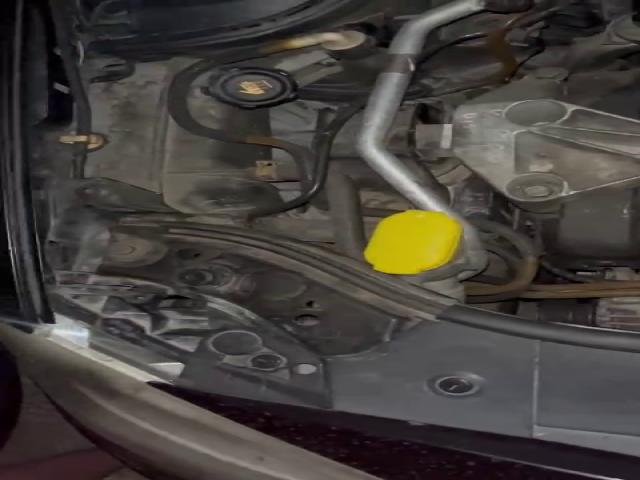antifreeze_tank: (86, 59, 283, 218), (186, 67, 296, 136)
